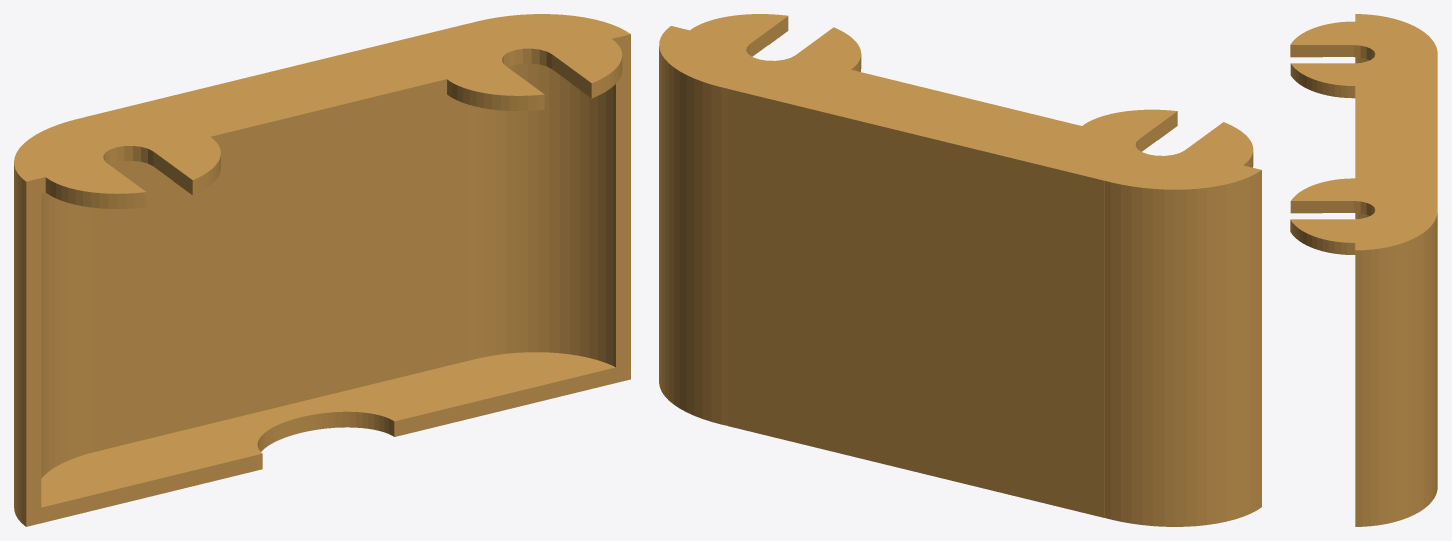
The model's file is back.glb.
3 views of the same model, side by side, from view 1: azimuth 30°, elevation 25°; view 2: azimuth 150°, elevation 25°; view 3: azimuth 270°, elevation 25° (orthographic). The views are drawn at different scales.
Parts seen in each view (by area): view 1: Mesh_Mesh_head_geo.001_lambert2SG.001; view 2: Mesh_Mesh_head_geo.001_lambert2SG.001; view 3: Mesh_Mesh_head_geo.001_lambert2SG.001.
Part boxes in pixels (x1,y1,x2,y2): Mesh_Mesh_head_geo.001_lambert2SG.001: (14, 14, 630, 526); Mesh_Mesh_head_geo.001_lambert2SG.001: (659, 14, 1261, 526); Mesh_Mesh_head_geo.001_lambert2SG.001: (1290, 14, 1437, 526).
Size of the model in its own units: 0.11 by 0.06 by 0.029.
